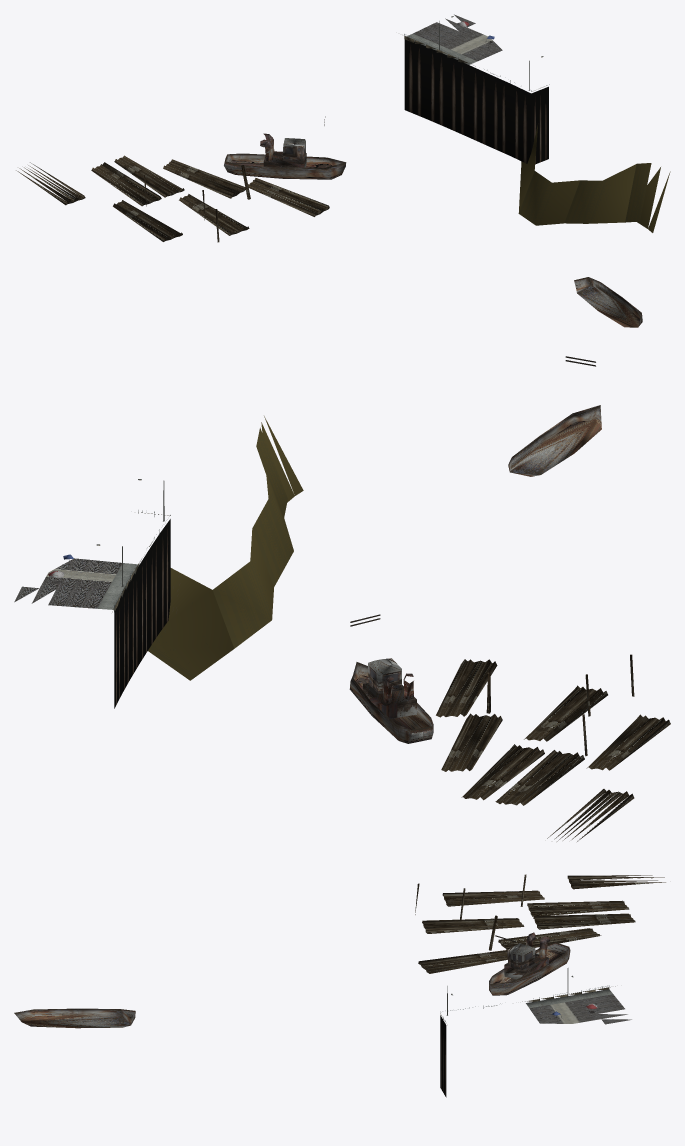
File: world_camden_14_-2.gltf
3 renders of one model, top to bottom at view 1: azimuth 30°, elevation 25°; view 2: azimuth 150°, elevation 25°; view 3: azimuth 270°, elevation 25°, orthographic. The views are drawn at different scales.
Size of the model in its own units: 166 by 55.1 by 212.
Materials: 13 (13 with a texture image).
